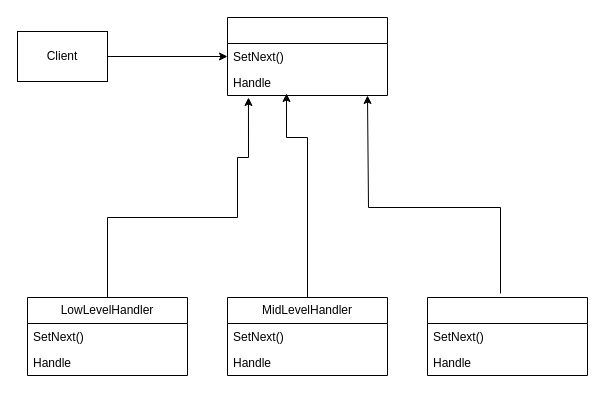
Image size: 605x396. Some labels were removed from this diagram. The box of each missing label's shape, as (x1, y1, x2, y2) in pixels:
Handler: (226, 16, 388, 96)
HighLevelHandler: (426, 296, 588, 376)
